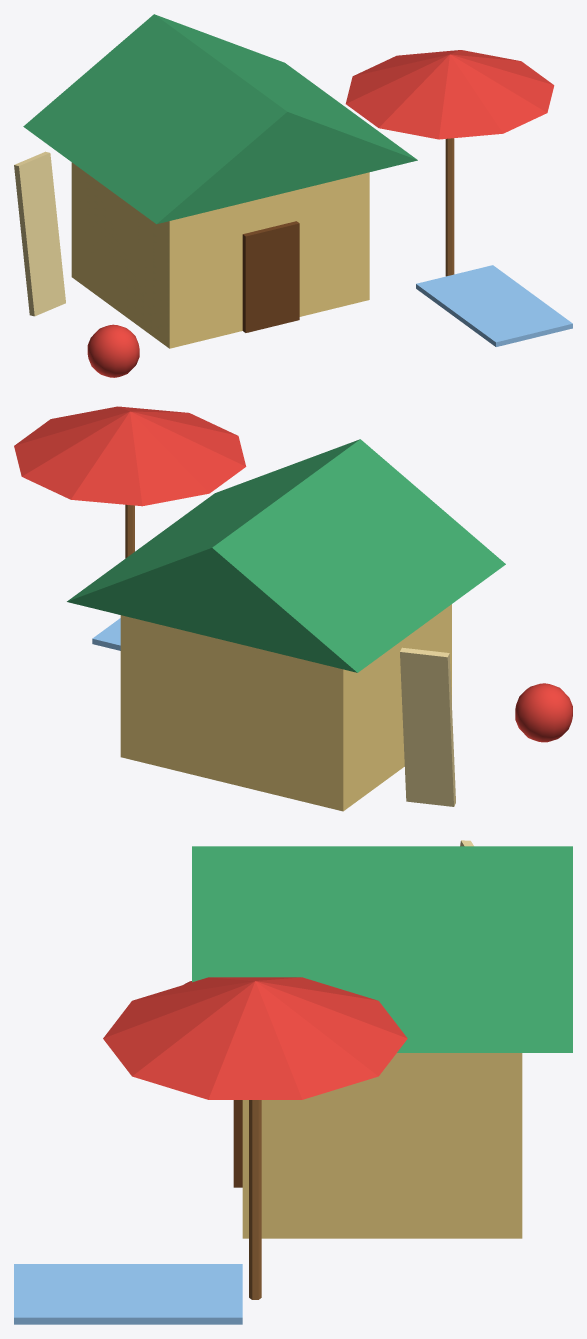
The model's file is b_beach.glb.
The picture shows the model from 3 angles, top to bottom: view 1: azimuth 30°, elevation 25°; view 2: azimuth 150°, elevation 25°; view 3: azimuth 270°, elevation 25°; orthographic projection. The views are drawn at different scales.
Visible parts, largest first — view 1: Roof, Hut, Umb, Towel, Board, Door, Ball, UPole; view 2: Roof, Hut, Umb, Board, Ball, Towel; view 3: Roof, Hut, Umb, Towel, UPole, Door.
Boxes of the visible parts, box(x1,y1,x2,y2) form: Roof: box(23, 14, 417, 224); Hut: box(71, 162, 369, 348); Umb: box(345, 50, 554, 139); Towel: box(416, 265, 572, 346); Board: box(14, 151, 65, 316); Door: box(242, 221, 299, 332); Ball: box(87, 324, 139, 377); UPole: box(445, 138, 454, 276); Roof: box(67, 439, 505, 672); Hut: box(120, 604, 451, 811); Umb: box(14, 406, 246, 506); Board: box(400, 647, 455, 806); Ball: box(515, 683, 572, 742); Towel: box(92, 618, 120, 650); Roof: box(192, 846, 572, 1052); Hut: box(242, 1053, 522, 1238); Umb: box(103, 977, 407, 1099); Towel: box(14, 1264, 242, 1324); UPole: box(249, 1100, 261, 1299); Door: box(233, 1100, 242, 1187).
Bounding box in the file's own units: 6.03 × 2.8 × 4.4.
